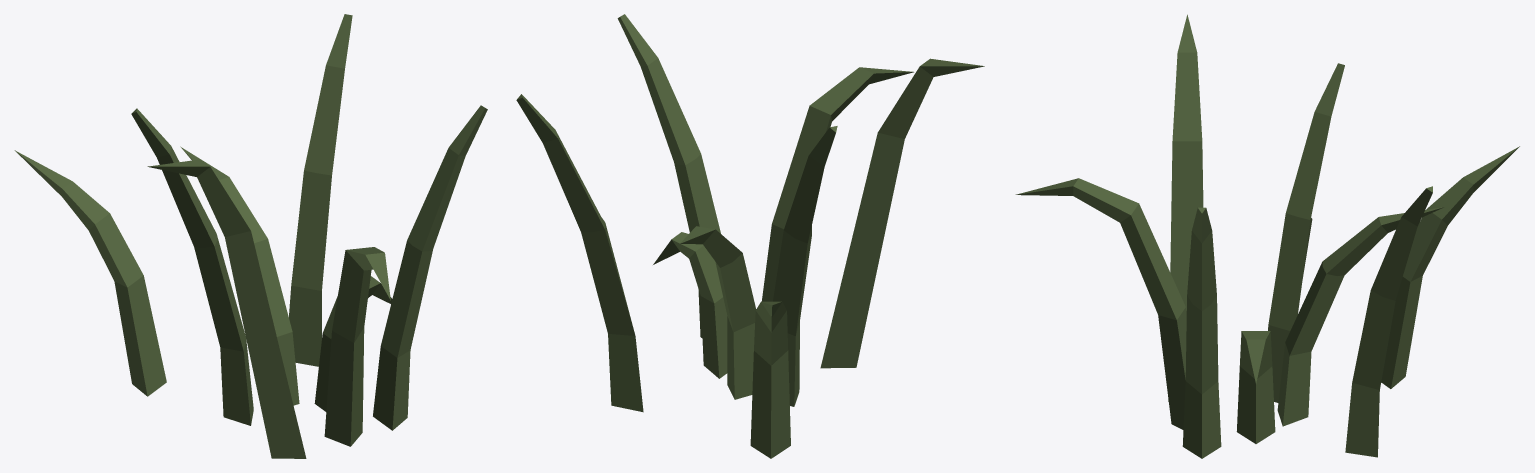
Rendered from SM_Envr_Nature_Plant_Grass_03.fbx.
3 views of the same model, side by side, from view 1: azimuth 30°, elevation 25°; view 2: azimuth 150°, elevation 25°; view 3: azimuth 270°, elevation 25° (orthographic). The views are drawn at different scales.
Visible parts, largest first — view 1: SM_Envr_Nature_Plant_Grass_03; view 2: SM_Envr_Nature_Plant_Grass_03; view 3: SM_Envr_Nature_Plant_Grass_03.
Boxes of the visible parts, bbox=[...] form: SM_Envr_Nature_Plant_Grass_03: bbox=[14, 14, 487, 458]; SM_Envr_Nature_Plant_Grass_03: bbox=[516, 14, 984, 458]; SM_Envr_Nature_Plant_Grass_03: bbox=[1015, 14, 1519, 458].
Size of the model in its own units: 88.58 by 78.24 by 113.
